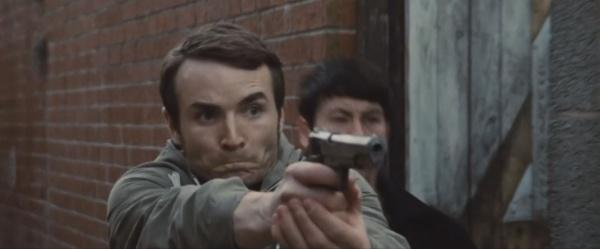Gun: (307, 130, 387, 184)
